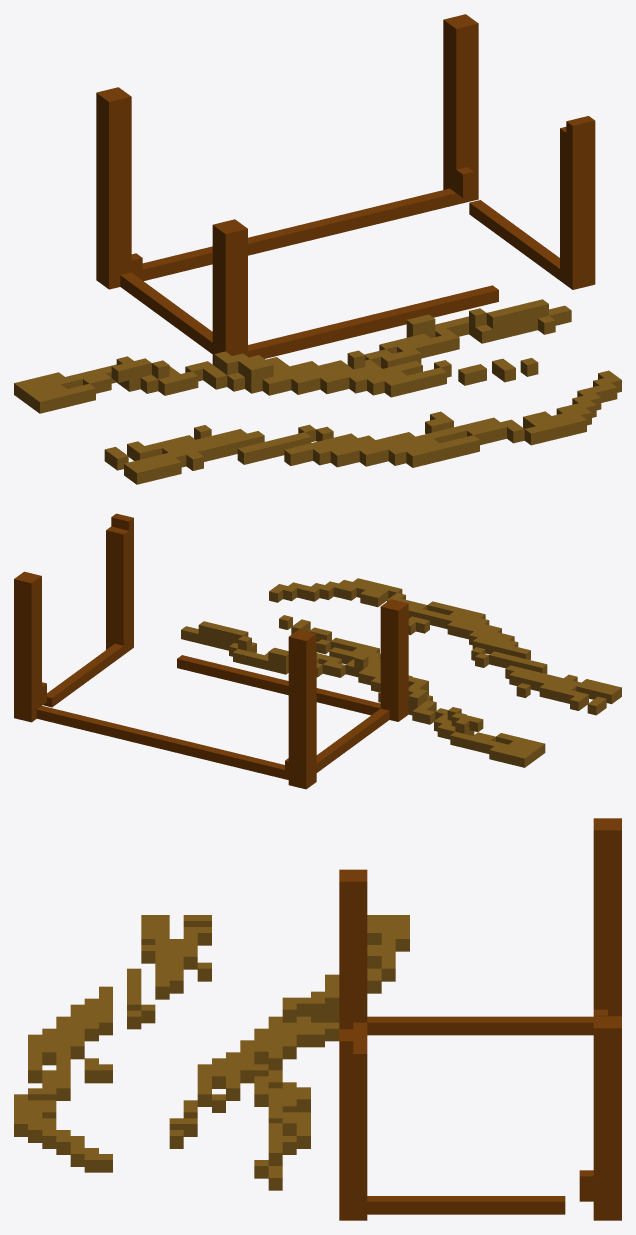
The model's file is Lager-01.obj.
3 renders of one model, top to bottom at view 1: azimuth 30°, elevation 25°; view 2: azimuth 150°, elevation 25°; view 3: azimuth 270°, elevation 25°, orthographic. The views are drawn at different scales.
Size of the model in its own units: 4.9 by 1.6 by 4.3.
1 material, 1 textured.
